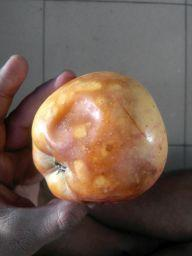Apple Rotten: (28, 69, 171, 206)
